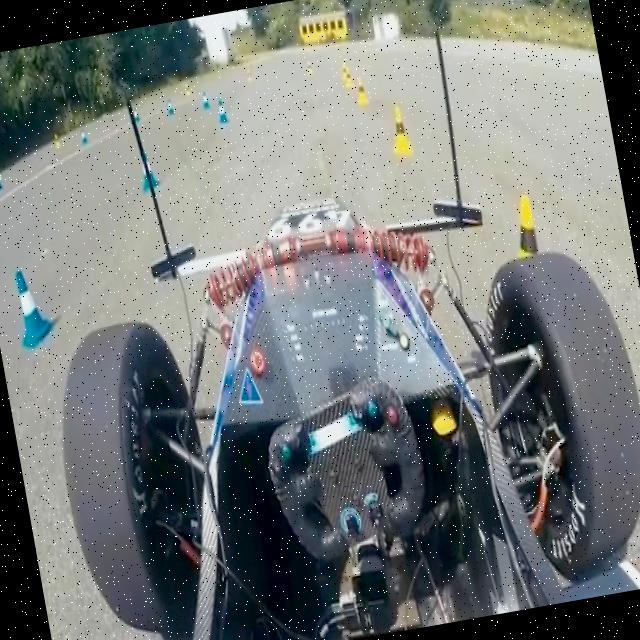blue_cone: (4, 261, 54, 348), (137, 149, 158, 190), (214, 94, 228, 124), (129, 100, 142, 128), (163, 98, 176, 120), (77, 126, 90, 148), (198, 86, 208, 111), (0, 171, 2, 192)
yellow_cone: (494, 182, 569, 342), (384, 106, 414, 160), (353, 76, 371, 106), (338, 58, 350, 82), (342, 68, 356, 88), (304, 56, 314, 77), (52, 130, 62, 150), (182, 80, 192, 99), (244, 65, 253, 84)
